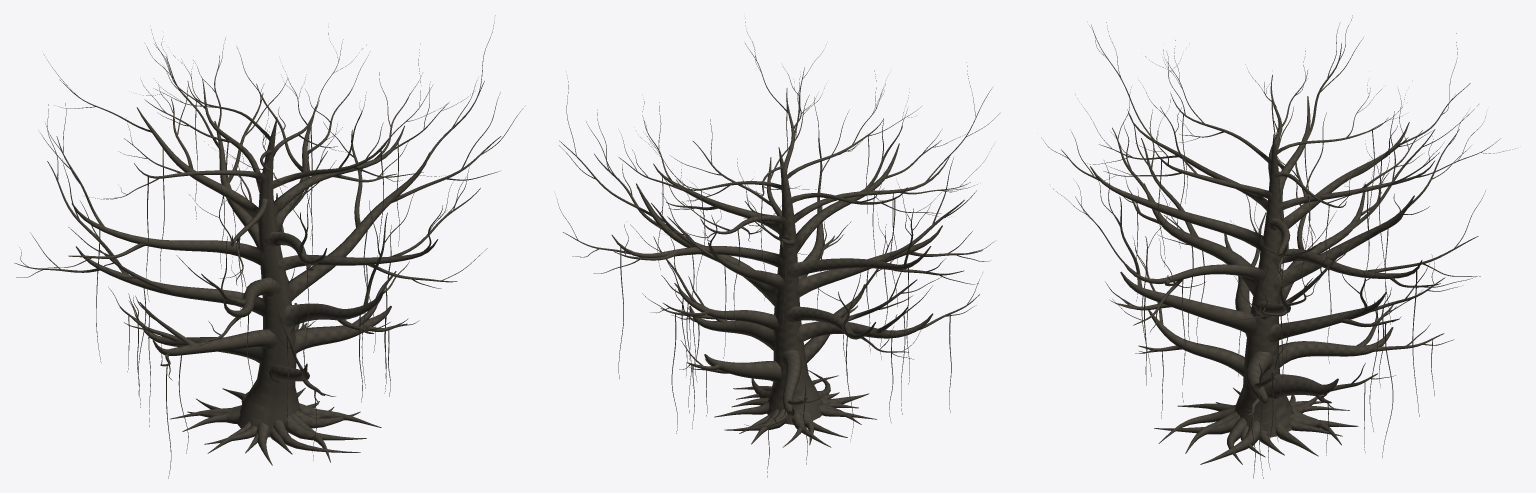
Rendered from tree.gltf.
The picture shows the model from 3 angles, left to right: view 1: azimuth 30°, elevation 25°; view 2: azimuth 150°, elevation 25°; view 3: azimuth 270°, elevation 25°; orthographic projection. The views are drawn at different scales.
Parts seen in each view (by area): view 1: Tree_LOD0; view 2: Tree_LOD0; view 3: Tree_LOD0.
Part boxes in pixels (box(x1,y1,x2,y2)): Tree_LOD0: box(14, 15, 523, 478); Tree_LOD0: box(556, 18, 999, 477); Tree_LOD0: box(1041, 15, 1515, 478).
Bounding box in the file's own units: 161 × 131 × 149.
1 material, 1 textured.
